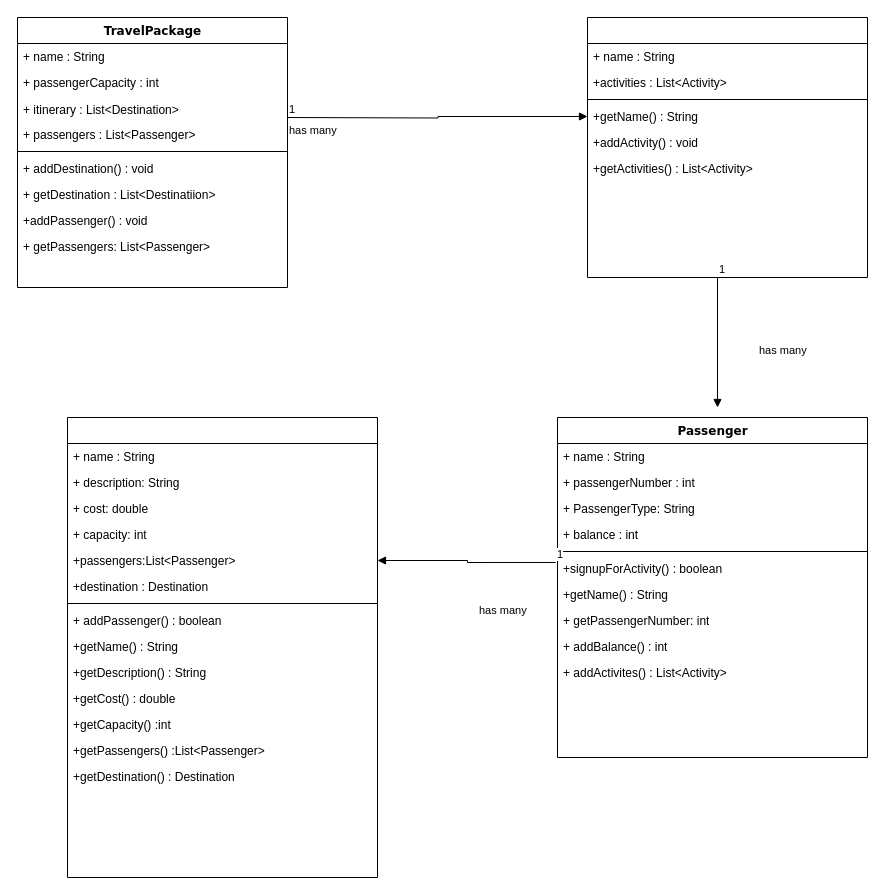
The diagram is 885 pixels wide and 895 high, and some of its shapes have lost their labels. Here are the shapes that lost their labels. From the top down, the box of each, then its label:
(586, 16, 868, 278): Destination
(66, 416, 378, 878): Activity
